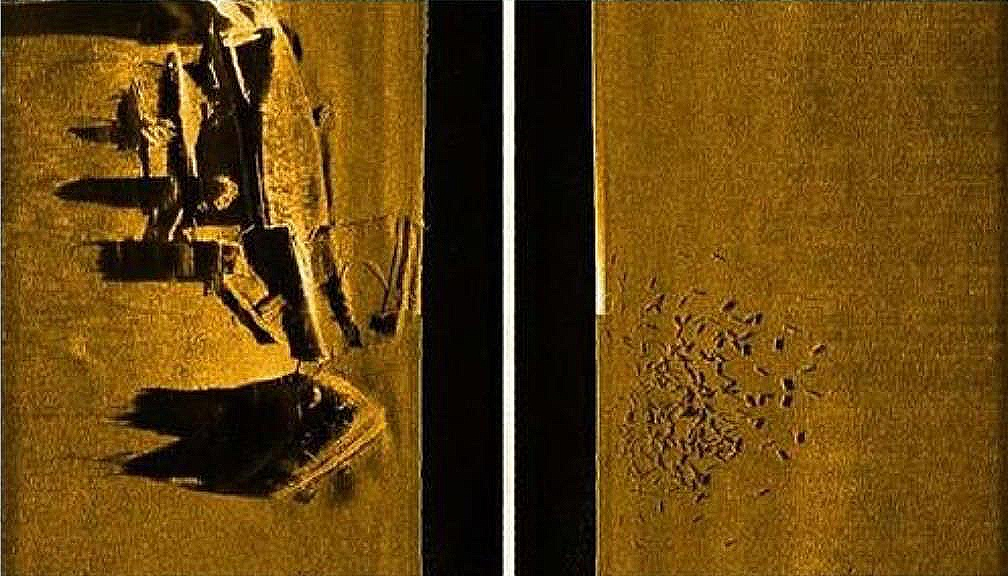ship: (126, 1, 417, 508)
